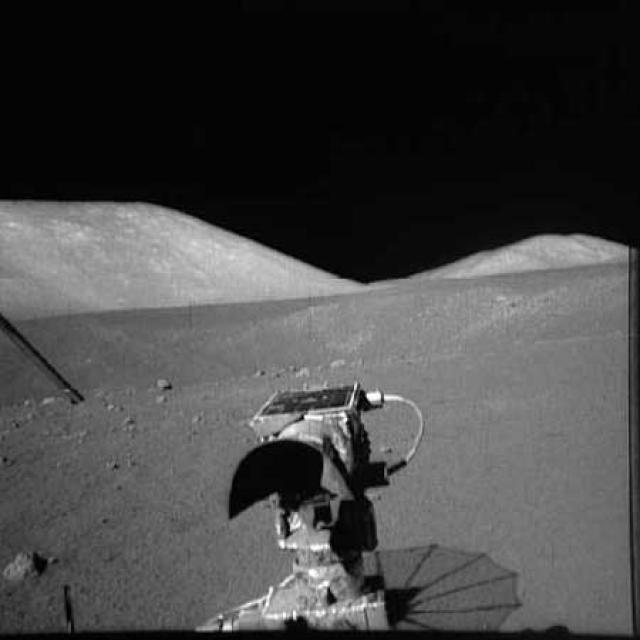artifact: (187, 374, 575, 639), (0, 301, 103, 413)
rock: (3, 544, 70, 602), (147, 369, 176, 394)
